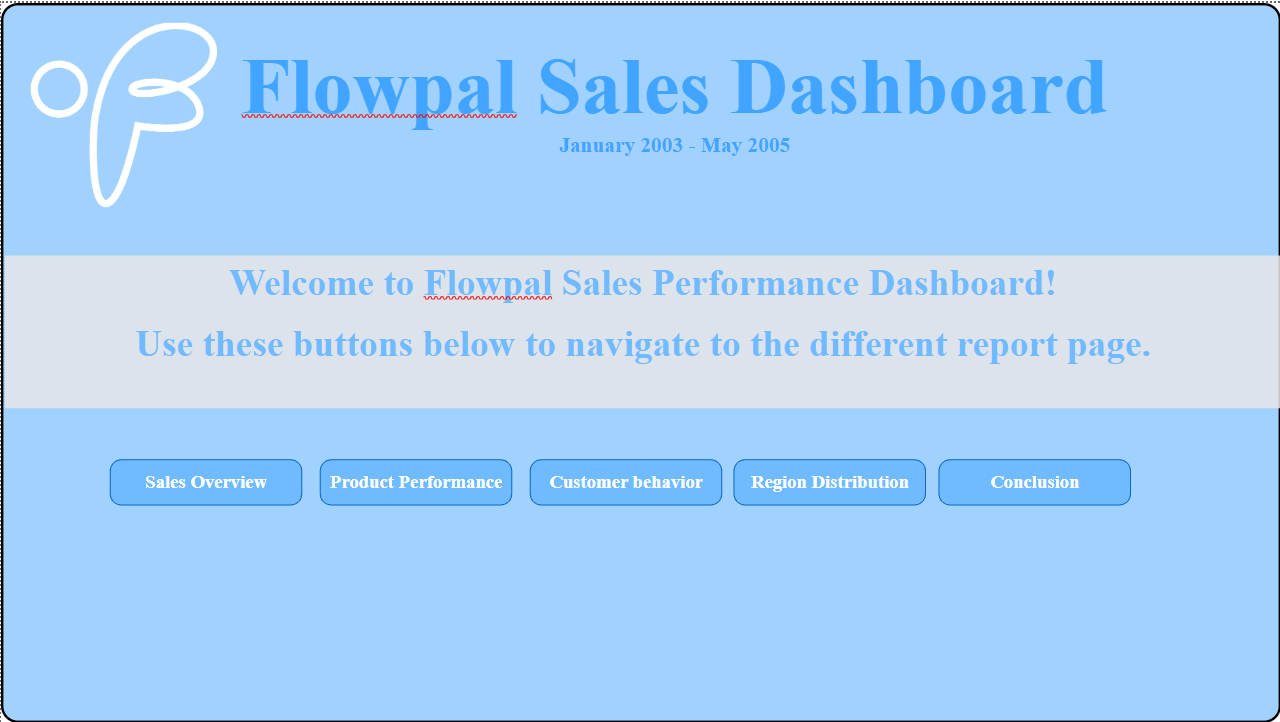

Layout of this report page (visuals, bound fields, positions):
{"tool":"powerbi","page":{"name":"Welcome","canvas":[1280,720],"ordinal":0},"visuals":[{"type":"group","id":"g1","title":"Group 1","box":[0,0,1280,720],"z":0},{"type":"textbox","box":[231.2,32.5,885,136.2],"z":1000},{"type":"shape","box":[108.8,456.2,192.5,46.2],"z":2000},{"type":"shape","box":[528.8,456.2,192.5,46.2],"z":3000},{"type":"shape","box":[318.8,456.2,192.5,46.2],"z":4000},{"type":"shape","box":[732.5,456.2,192.5,46.2],"z":5000},{"type":"shape","box":[937.5,456.2,192.5,46.2],"z":6000},{"type":"textbox","box":[3.8,252.5,1276.2,152.5],"z":7000},{"type":"shape","box":[0,0,1280,720],"z":7502,"group":"g1"},{"type":"image","box":[8.1,15.1,223.3,196.5],"z":8502,"group":"g1"}]}

Visuals, with their boxes in screenshot pixels (x1, y1, x2, y2), scaled from the page's 1280x720 canvas onto the 1280x722 screenshot:
"Group 1" group: [left=0, top=0, right=1279, bottom=721]
textbox: [left=231, top=33, right=1116, bottom=169]
shape: [left=109, top=457, right=301, bottom=504]
shape: [left=529, top=457, right=721, bottom=504]
shape: [left=319, top=457, right=511, bottom=504]
shape: [left=732, top=457, right=925, bottom=504]
shape: [left=938, top=457, right=1130, bottom=504]
textbox: [left=4, top=253, right=1279, bottom=406]
shape: [left=0, top=0, right=1279, bottom=721]
image: [left=8, top=15, right=231, bottom=212]
